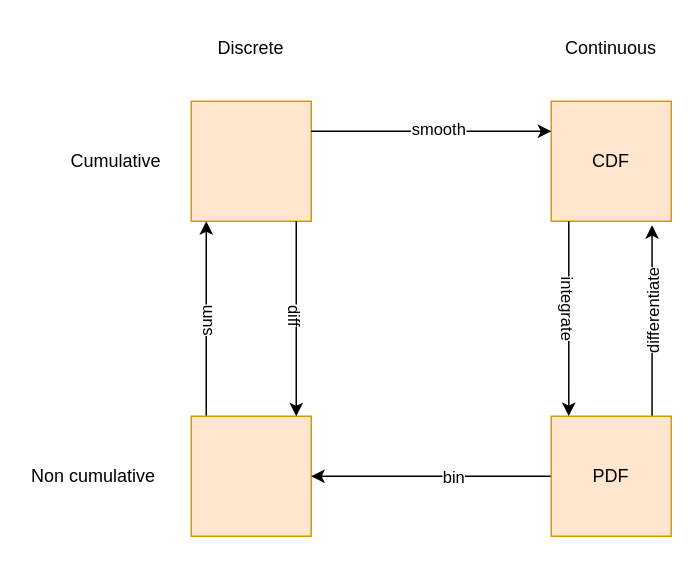
This 698x563 diagram has some shape labels left out. The centre of each missing label's shape, as x and y in pixels:
CDF CMF: pixel 250 160
PMF: pixel 250 475
